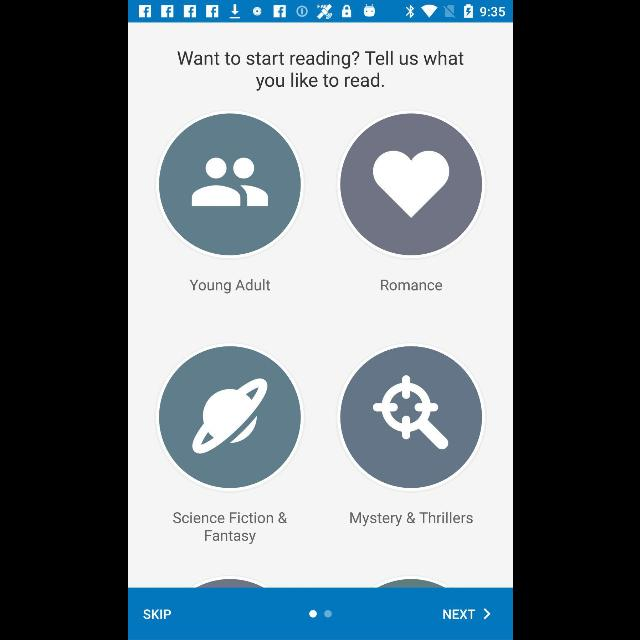icon: (336, 110, 486, 260), (482, 608, 490, 620)
image: (154, 342, 304, 492), (154, 110, 304, 260), (336, 342, 484, 492)
pageindicator: (308, 610, 332, 618)
text: (177, 51, 463, 91), (172, 512, 288, 544), (350, 511, 472, 527), (188, 278, 270, 294), (380, 279, 442, 291), (442, 608, 474, 620), (142, 608, 170, 620)
uppertaskbar: (128, 1, 512, 23)
